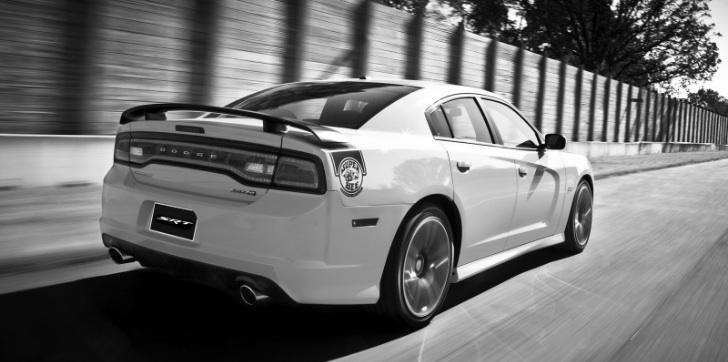car: (94, 74, 607, 325)
